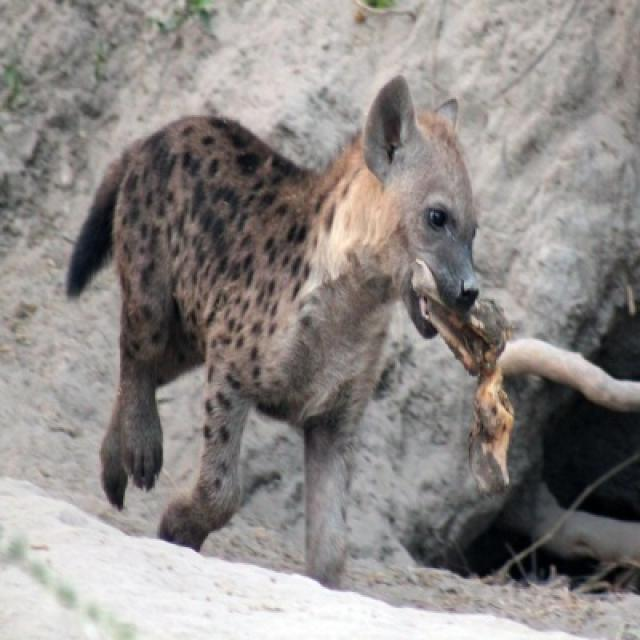hyena: (64, 77, 523, 590)
